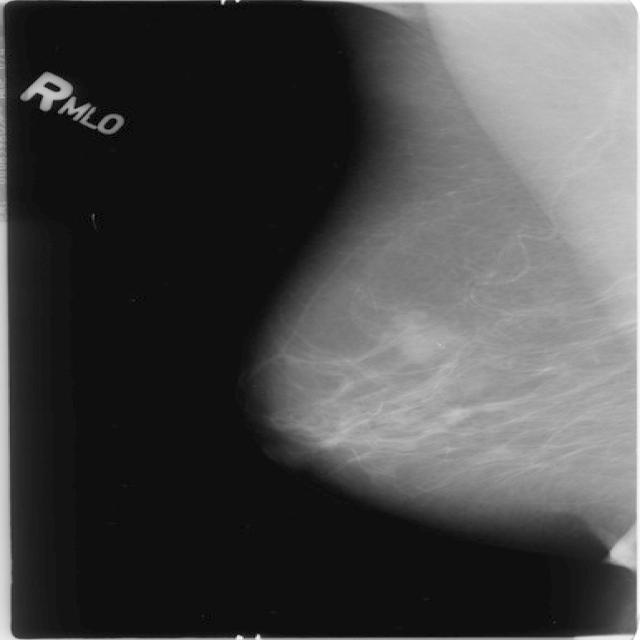tumour: (400, 324, 456, 363)
